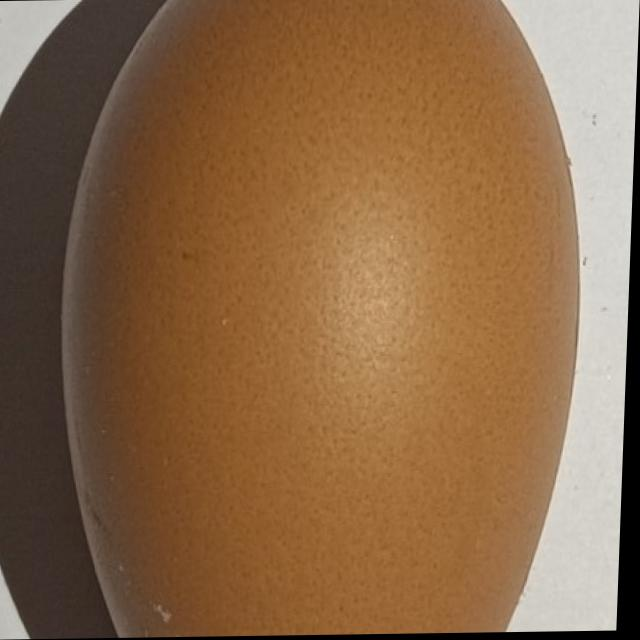fresh: (40, 0, 612, 639)
